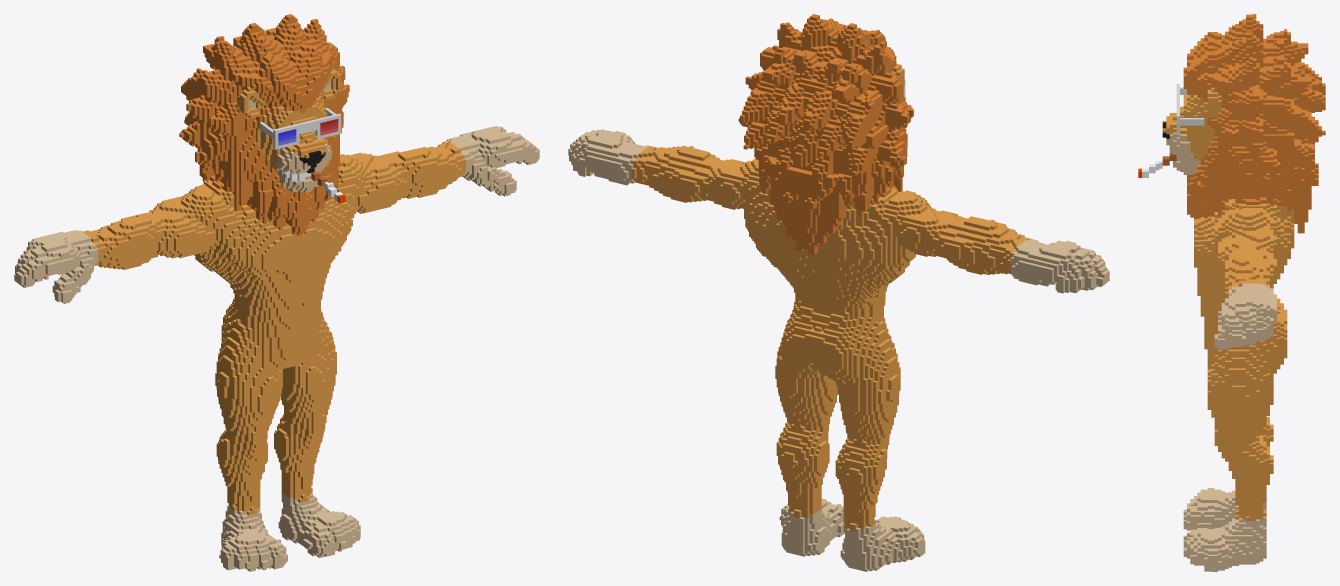
The model's file is 99-C9u2RmD5.glb.
The picture shows the model from 3 angles, left to right: view 1: azimuth 30°, elevation 25°; view 2: azimuth 150°, elevation 25°; view 3: azimuth 270°, elevation 25°; orthographic projection. The views are drawn at different scales.
Visible parts, largest first — view 1: cigarette; view 2: cigarette; view 3: cigarette.
Boxes of the visible parts, bbox=[...] form: cigarette: bbox=[14, 14, 539, 571]; cigarette: bbox=[568, 14, 1109, 571]; cigarette: bbox=[1138, 14, 1325, 571].
Bounding box in the file's own units: 17.2 × 16.5 × 5.4.
4 materials, 4 textured.
